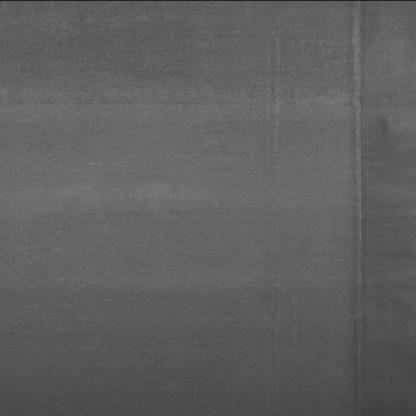welding_line: (353, 2, 374, 416)
